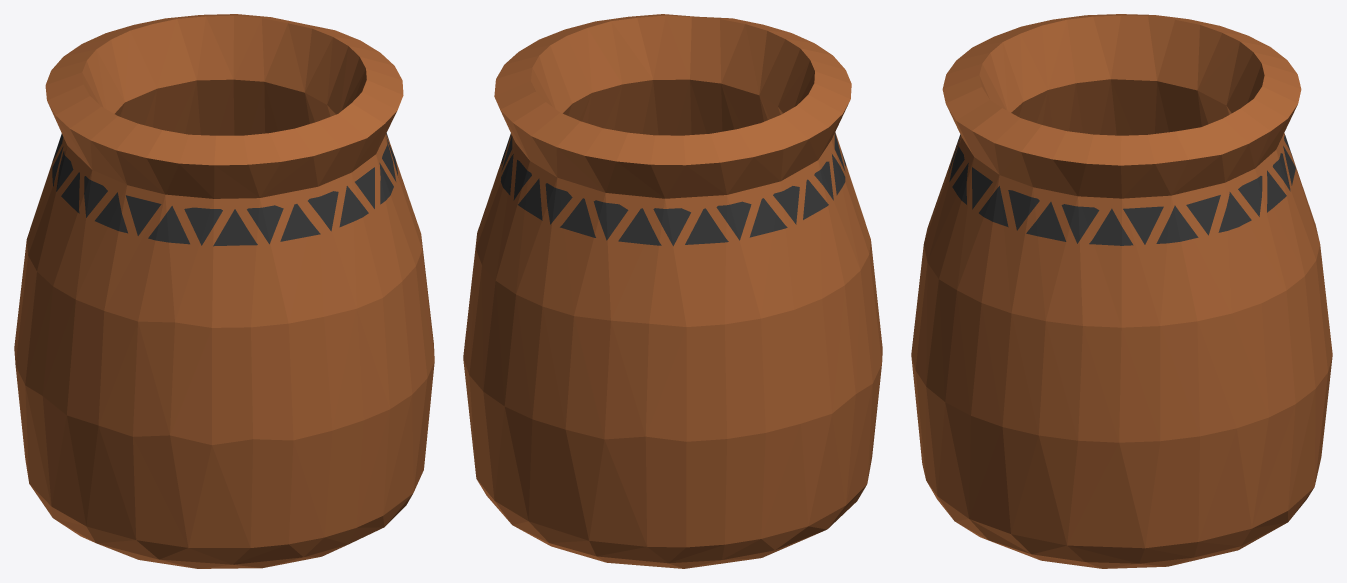
The model's file is Pottery 20_1.fbx.
3 renders of one model, left to right at view 1: azimuth 30°, elevation 25°; view 2: azimuth 150°, elevation 25°; view 3: azimuth 270°, elevation 25°, orthographic.
Visible parts, largest first — view 1: Pottery 20_1; view 2: Pottery 20_1; view 3: Pottery 20_1.
Boxes of the visible parts, <box> form: Pottery 20_1: <box>14,14,434,568</box>; Pottery 20_1: <box>463,14,882,568</box>; Pottery 20_1: <box>911,14,1332,568</box>.
Size of the model in its own units: 52.91 by 59.44 by 52.93.
